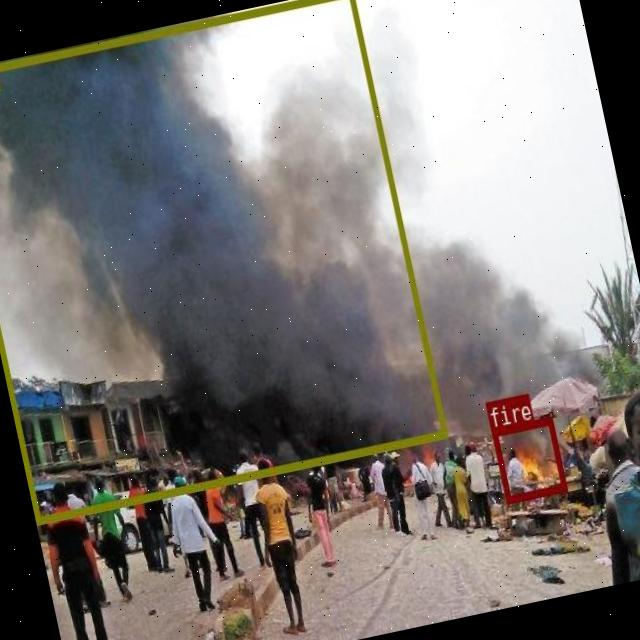fire: (490, 416, 566, 502)
smoke: (0, 0, 446, 523)
